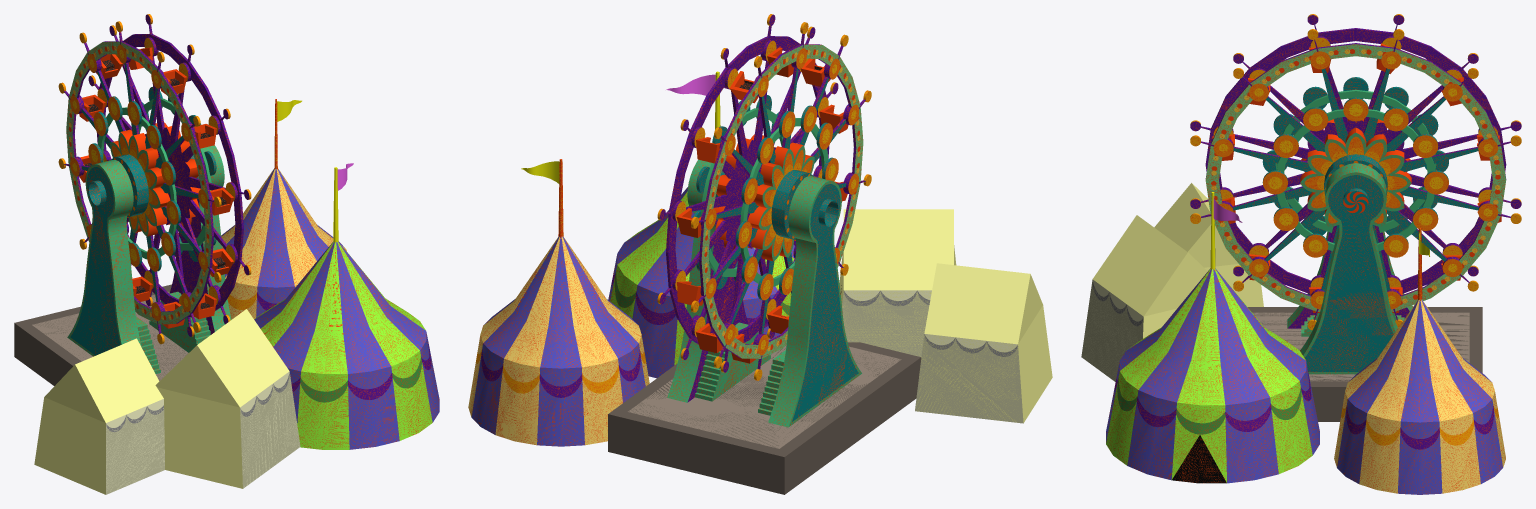
3 renders of one model, left to right at view 1: azimuth 30°, elevation 25°; view 2: azimuth 150°, elevation 25°; view 3: azimuth 270°, elevation 25°, orthographic. The views are drawn at different scales.
Parts seen in each view (by area): view 1: Group_25 (×13), Group_21 (×2), group_13 (×6), Group_14 (×5), Group_24 (×2), Group_3 (×6), group_5 (×2), group_10 (×2); view 2: group_5 (×2), Group_14 (×11), group_13 (×6), Group_21 (×2), Group_24 (×2), Group_3 (×8), Group_25 (×4), group_10 (×2), Group_23; view 3: Group_3 (×29), Group_14 (×12), Group_25 (×9), Group_23 (×8), group_13 (×2), Group_21 (×2), group_5 (×2), Group_24, group_10 (×2).
Boxes of the visible parts, <box> form: Group_25 (×13): <box>254,241,439,449</box>; Group_21 (×2): <box>34,309,289,494</box>; group_13 (×6): <box>67,145,231,373</box>; Group_14 (×5): <box>223,168,328,303</box>; Group_24 (×2): <box>106,372,300,494</box>; Group_3 (×6): <box>123,14,249,324</box>; group_5 (×2): <box>14,284,188,385</box>; group_10 (×2): <box>98,98,211,259</box>; group_5 (×2): <box>608,338,921,494</box>; Group_14 (×11): <box>471,236,644,446</box>; group_13 (×6): <box>667,159,861,427</box>; Group_21 (×2): <box>839,209,1052,422</box>; Group_24 (×2): <box>842,290,1023,423</box>; Group_3 (×8): <box>660,14,815,372</box>; Group_25 (×4): <box>616,191,777,378</box>; group_10 (×2): <box>700,108,828,286</box>; Group_23: <box>614,187,687,274</box>; Group_3 (×29): <box>1190,15,1521,315</box>; Group_14 (×12): <box>1337,299,1502,494</box>; Group_25 (×9): <box>1106,268,1319,480</box>; Group_23 (×8): <box>1171,269,1278,483</box>; group_13 (×2): <box>1300,163,1397,374</box>; Group_21 (×2): <box>1093,183,1263,338</box>; group_5 (×2): <box>1247,307,1482,421</box>; Group_24: <box>1081,280,1143,381</box>; group_10 (×2): <box>1275,89,1436,251</box>.
Size of the model in its own units: 1908 by 1758 by 1586.
